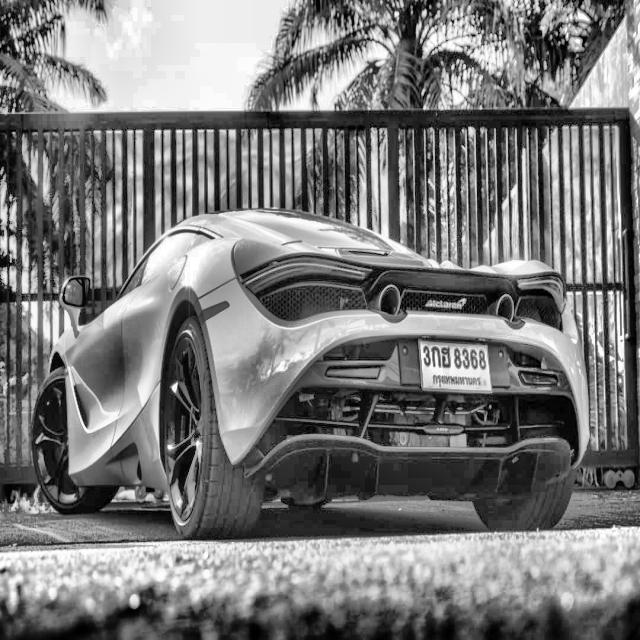license-plate: (417, 333, 495, 398)
